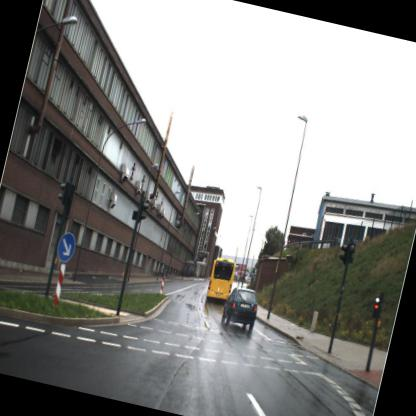mandatory: (50, 222, 82, 270)
